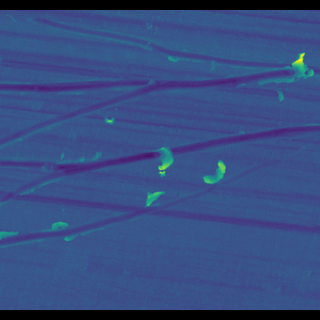Loch: (0, 124, 319, 244), (0, 73, 301, 148), (25, 23, 293, 76), (152, 144, 176, 178), (288, 57, 311, 91), (201, 158, 227, 186), (142, 189, 164, 206)
